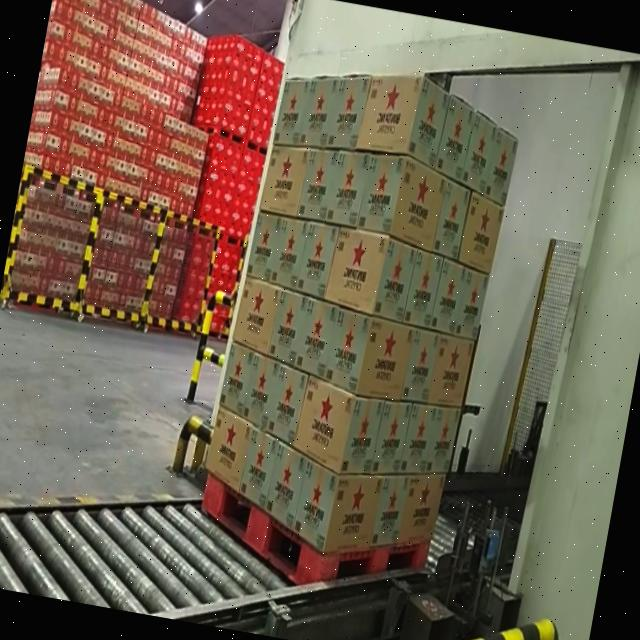pallet: (180, 39, 530, 624)
